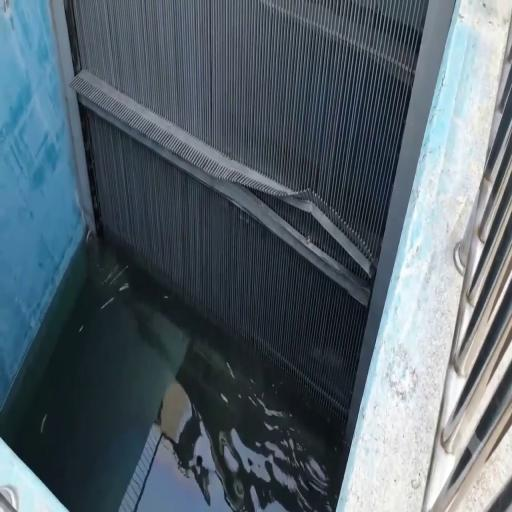rake_broken: (224, 161, 374, 277)
